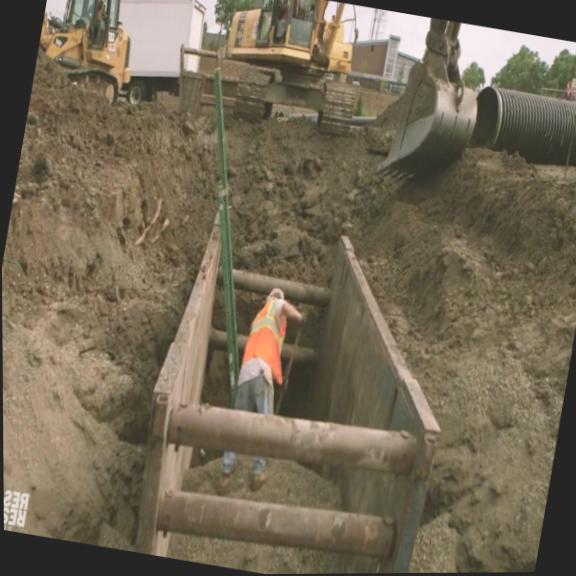safety_vest: (240, 295, 298, 385)
